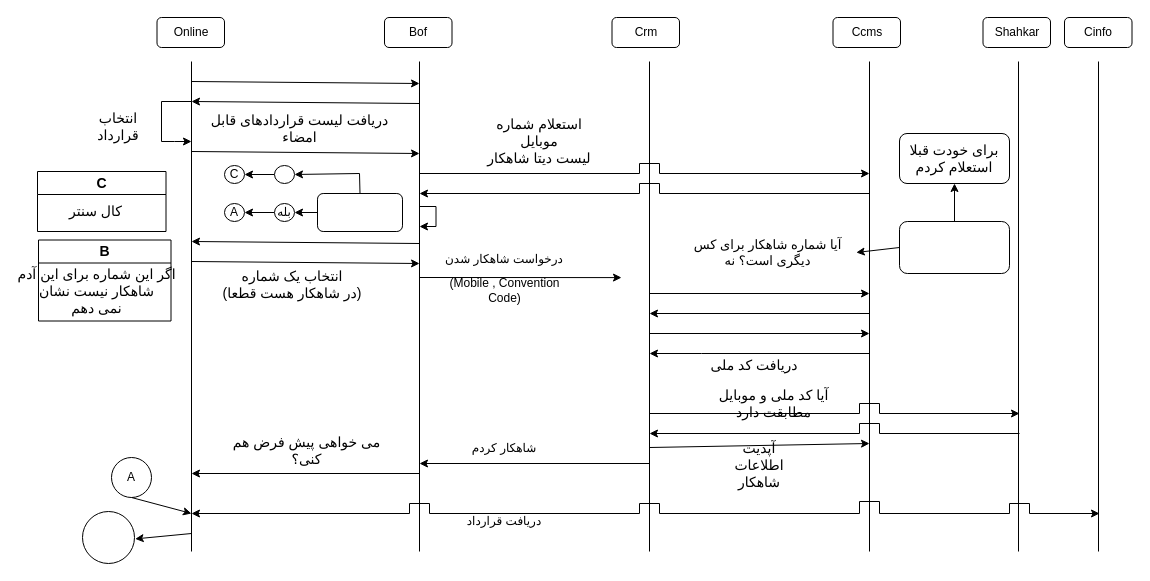
The diagram is 1150 pixels wide and 581 high, and some of its shapes have lost their labels. Each missing label, with the centre of its shape:
آیا شماره شاهکار است؟(نیدانم): the point at 359,212
ارسال پاسخ: the point at 108,537
می توانم شاهکار کنم برای مشتری: the point at 954,247
نه: the point at 284,174
